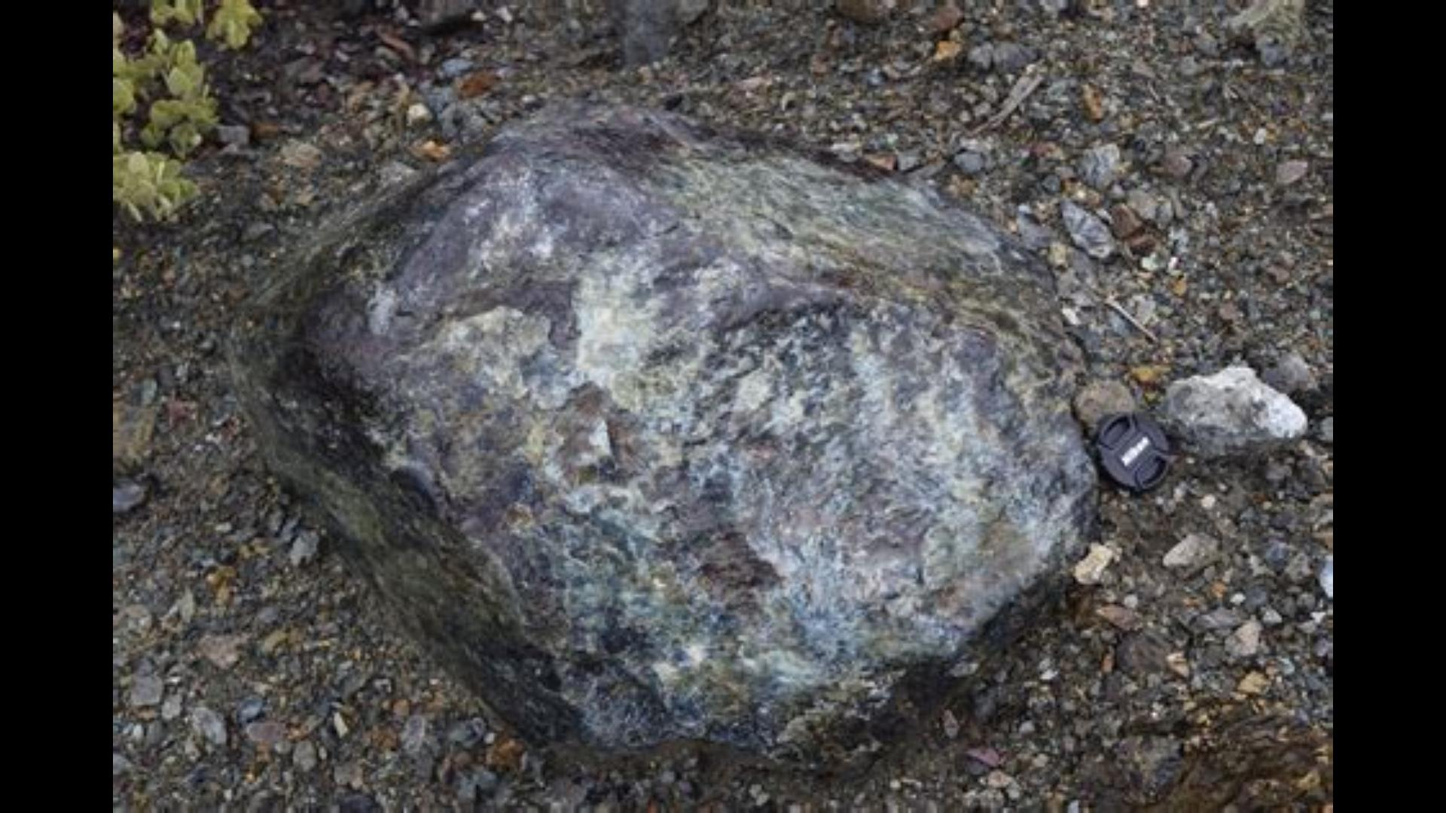rock: (234, 105, 1096, 762), (1158, 365, 1305, 455)
